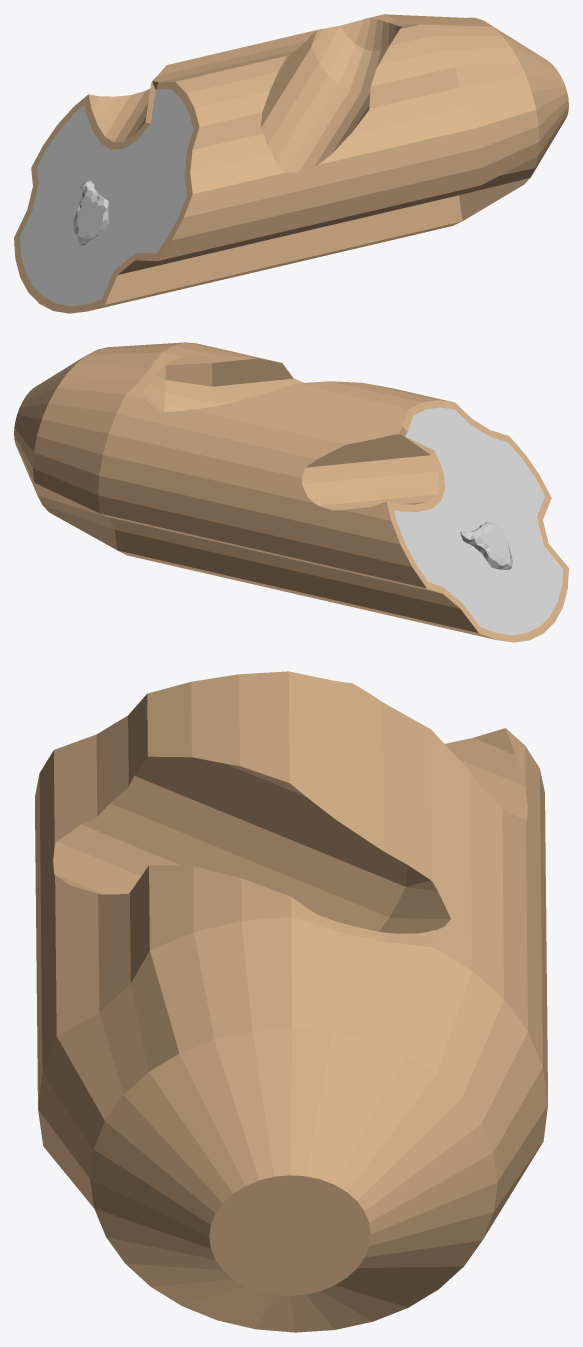
The model's file is bread-with-chunk-fbx.fbx.
The picture shows the model from 3 angles, top to bottom: view 1: azimuth 30°, elevation 25°; view 2: azimuth 150°, elevation 25°; view 3: azimuth 270°, elevation 25°; orthographic projection. The views are drawn at different scales.
Visible parts, largest first — view 1: bread, bread-chunk; view 2: bread, bread-chunk; view 3: bread.
Part boxes in pixels (bbox=[...]): bread: bbox=[14, 14, 568, 313]; bread-chunk: bbox=[73, 180, 108, 245]; bread: bbox=[14, 342, 568, 642]; bread-chunk: bbox=[460, 521, 512, 569]; bread: bbox=[35, 671, 547, 1332].
Bounding box in the file's own units: 0.2194 × 0.08 × 0.0958.
